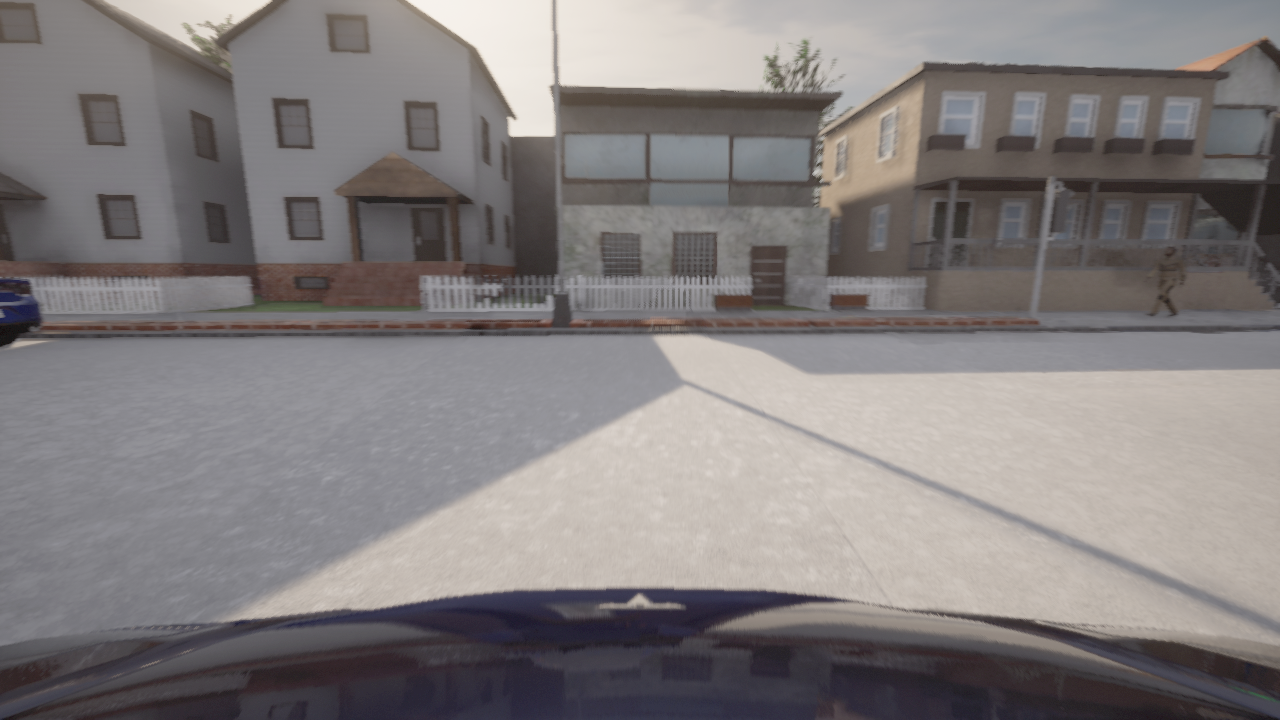cyclist: (0, 588, 1279, 719)
pedestrian: (1145, 246, 1185, 317)
